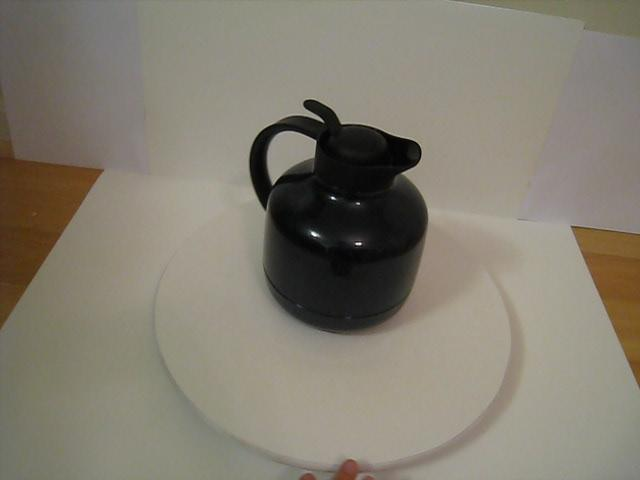pitcher: (242, 99, 437, 342)
